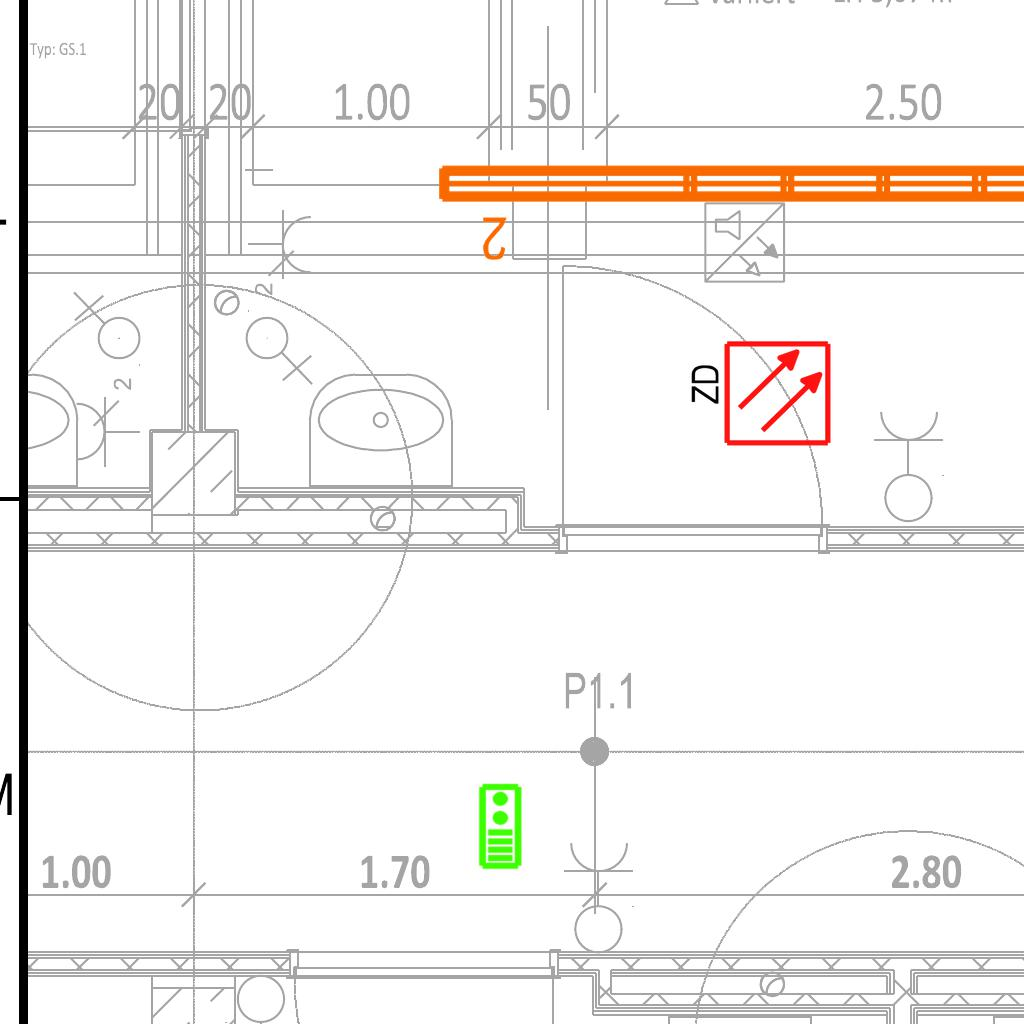Ambulanz_Pendelleuchte_LED: (430, 153, 1024, 265)
Gegensprechanlage_mit_Video: (476, 782, 523, 870)
ZD_Melder_in_Zwischendecke_mit_Revisionsoeffnung_mind_40_x_40_cm: (684, 338, 833, 452)
